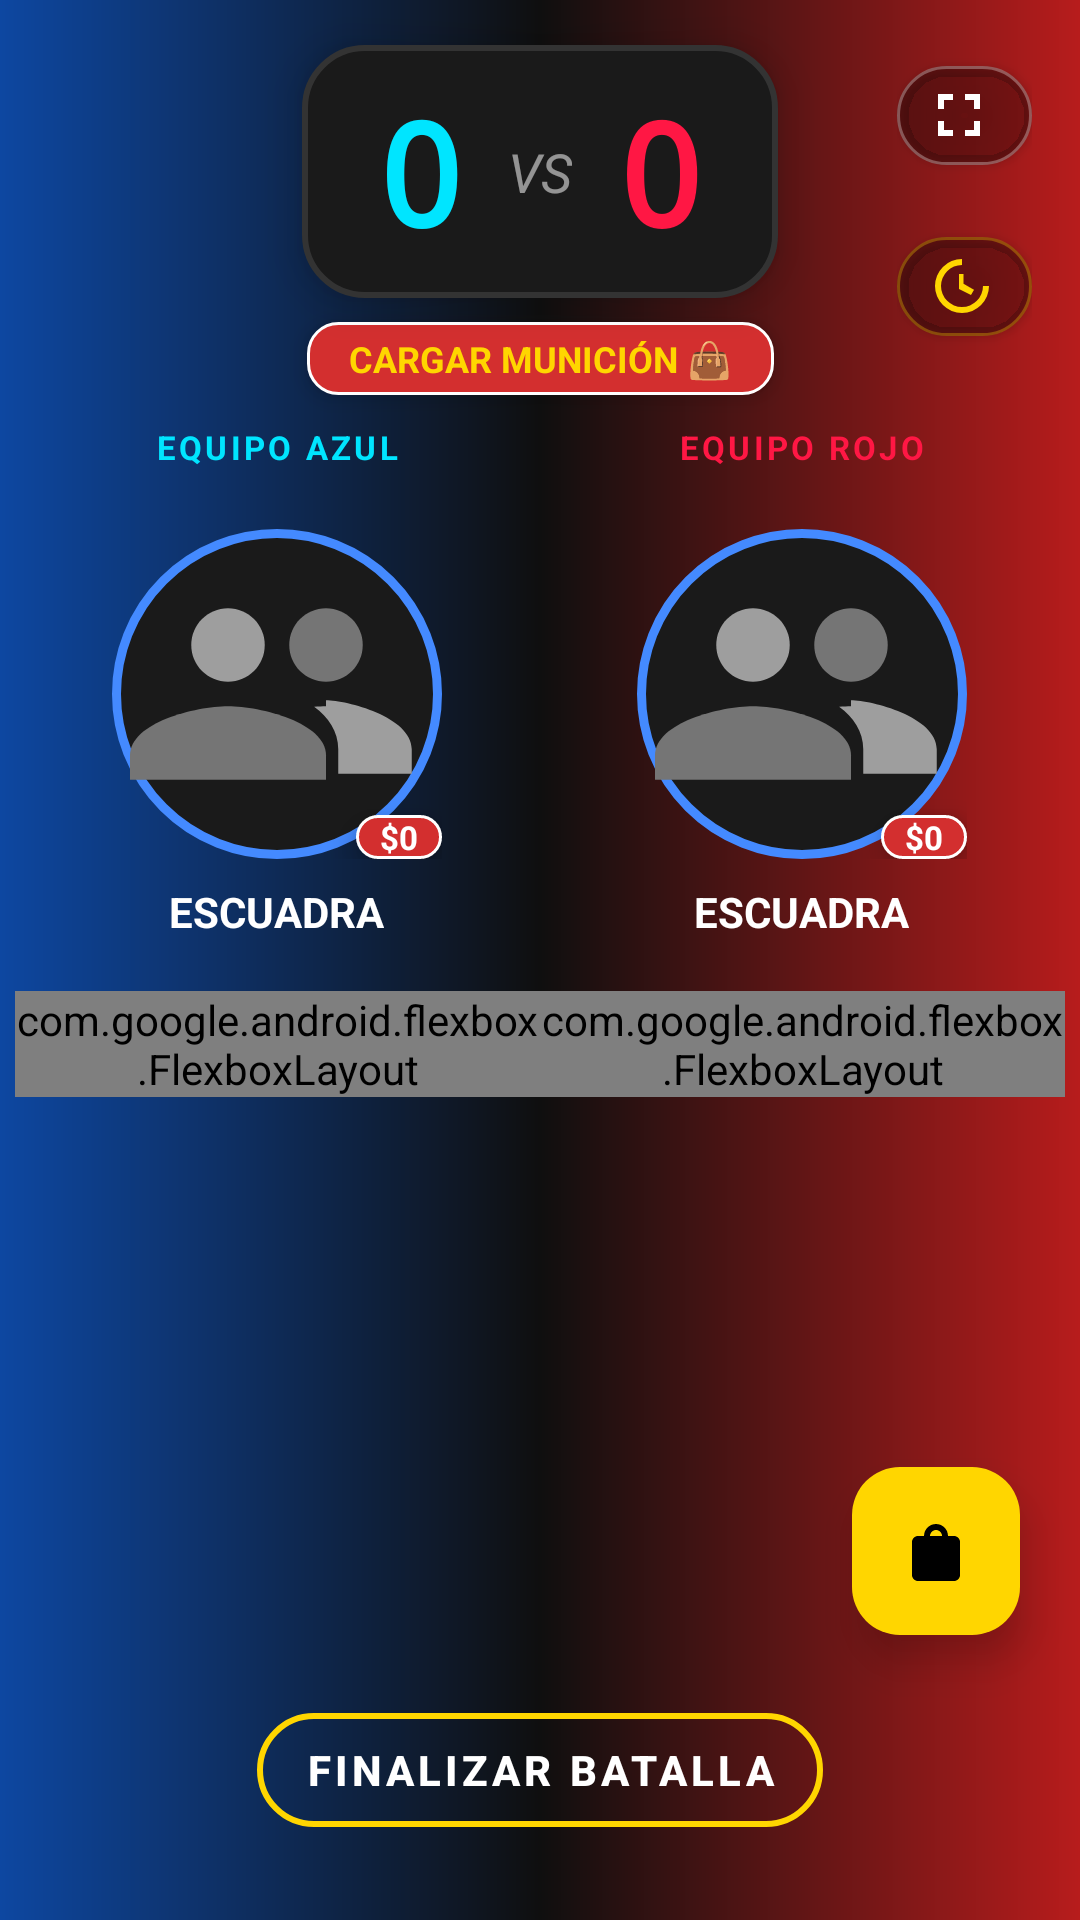

Point at icon controls on the screen. Image size 1080 × 1920, points as point (x, y).
fullscreen: point (964, 115)
history: point (964, 286)
shopping bag: point (936, 1551)
